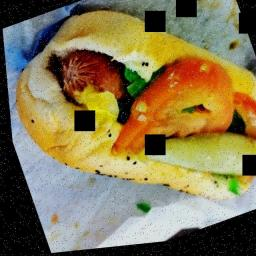hotdog: (33, 36, 126, 124)
